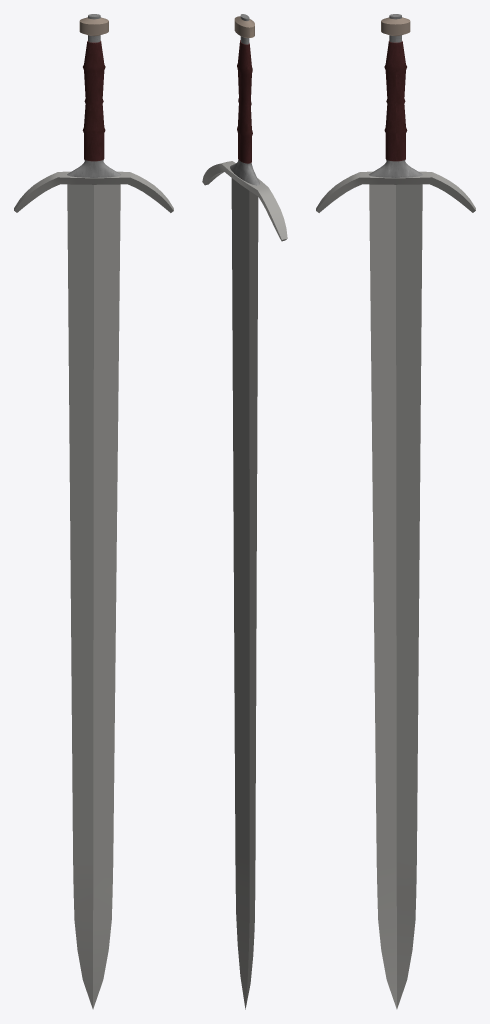
File: sword.glb
3 renders of one model, left to right at view 1: azimuth 90°, elevation 25°; view 2: azimuth 210°, elevation 25°; view 3: azimuth 270°, elevation 25°, orthographic.
Visible parts, largest first — view 1: sword; view 2: sword; view 3: sword.
Boxes of the visible parts, x1,y1,x2,y2 form: sword: (14,14,173,1009); sword: (202,14,287,1009); sword: (316,14,475,1009).
Size of the model in its own units: 0.0327 by 2.12 by 0.3084.
Materials: 2 (1 with a texture image).
